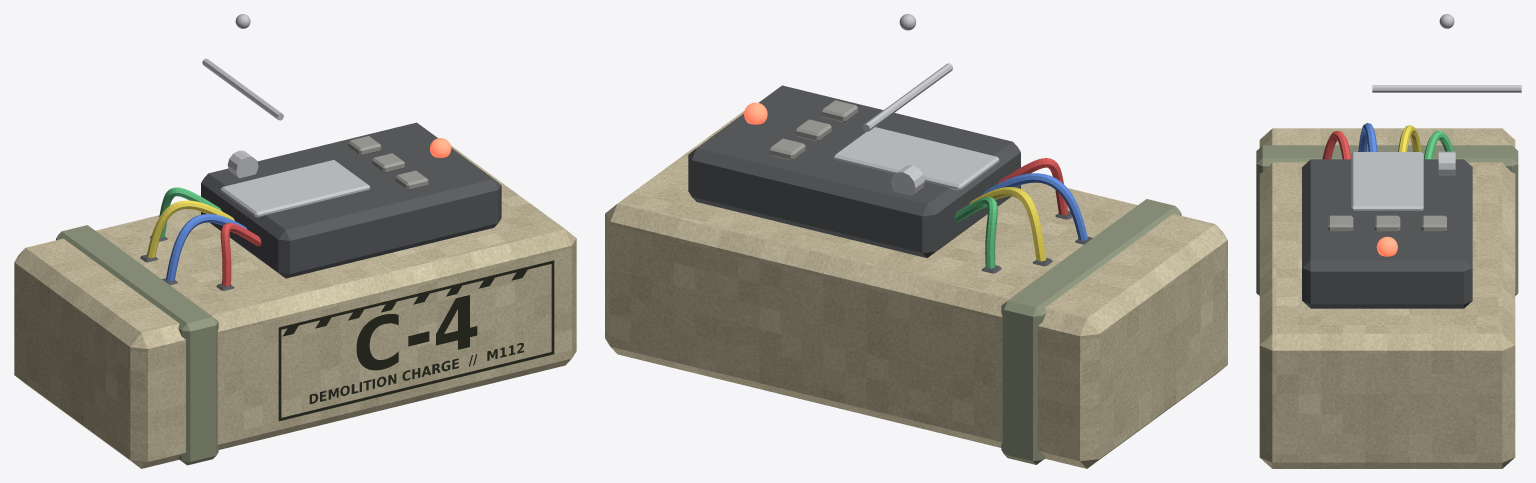
The picture shows the model from 3 angles, left to right: view 1: azimuth 30°, elevation 25°; view 2: azimuth 150°, elevation 25°; view 3: azimuth 270°, elevation 25°; orthographic projection. The views are drawn at different scales.
Parts seen in each view (by area): view 1: c4_body, c4_detonator, c4_strap, c4_label, c4_bezel, c4_wire_yellow, c4_wire_blue, c4_wire_red, c4_antenna, c4_antenna_base, c4_wire_green; view 2: c4_body, c4_detonator, c4_strap, c4_bezel, c4_wire_blue, c4_wire_green, c4_wire_yellow, c4_antenna, c4_wire_red, c4_antenna_base; view 3: c4_body, c4_detonator, c4_bezel, c4_strap, c4_antenna, c4_wire_red, c4_button_1, c4_button_2, c4_button_0, c4_wire_green, c4_wire_blue, c4_wire_yellow (+2 smaller).
Part boxes in pixels (x1=…): c4_body: x1=14, y1=145, x2=576, y2=468; c4_detonator: x1=201, y1=122, x2=501, y2=278; c4_strap: x1=56, y1=225, x2=218, y2=465; c4_label: x1=278, y1=260, x2=554, y2=421; c4_bezel: x1=220, y1=160, x2=370, y2=217; c4_wire_yellow: x1=146, y1=200, x2=234, y2=258; c4_wire_blue: x1=166, y1=214, x2=247, y2=281; c4_wire_red: x1=220, y1=223, x2=261, y2=286; c4_antenna: x1=202, y1=58, x2=283, y2=120; c4_antenna_base: x1=227, y1=150, x2=258, y2=178; c4_wire_green: x1=159, y1=187, x2=221, y2=237; c4_body: x1=605, y1=111, x2=1227, y2=468; c4_detonator: x1=688, y1=85, x2=1020, y2=257; c4_strap: x1=1001, y1=199, x2=1181, y2=464; c4_bezel: x1=833, y1=127, x2=999, y2=190; c4_wire_blue: x1=984, y1=173, x2=1087, y2=240; c4_wire_green: x1=954, y1=197, x2=997, y2=268; c4_wire_yellow: x1=969, y1=187, x2=1046, y2=261; c4_antenna: x1=862, y1=63, x2=952, y2=131; c4_wire_red: x1=998, y1=158, x2=1068, y2=214; c4_antenna_base: x1=891, y1=165, x2=924, y2=195; c4_body: x1=1259, y1=128, x2=1515, y2=468; c4_detonator: x1=1302, y1=159, x2=1472, y2=308; c4_bezel: x1=1351, y1=152, x2=1423, y2=210; c4_strap: x1=1256, y1=145, x2=1518, y2=295; c4_antenna: x1=1372, y1=85, x2=1521, y2=92; c4_wire_red: x1=1322, y1=131, x2=1351, y2=159; c4_button_1: x1=1374, y1=215, x2=1400, y2=232; c4_button_2: x1=1327, y1=215, x2=1353, y2=232; c4_button_0: x1=1421, y1=215, x2=1446, y2=232; c4_wire_green: x1=1424, y1=131, x2=1453, y2=159; c4_wire_blue: x1=1358, y1=123, x2=1377, y2=151; c4_wire_yellow: x1=1398, y1=125, x2=1421, y2=151.
Bounding box in the file's own units: 0.24 × 0.178 × 0.1245.
Materials: 12 (3 with a texture image).
